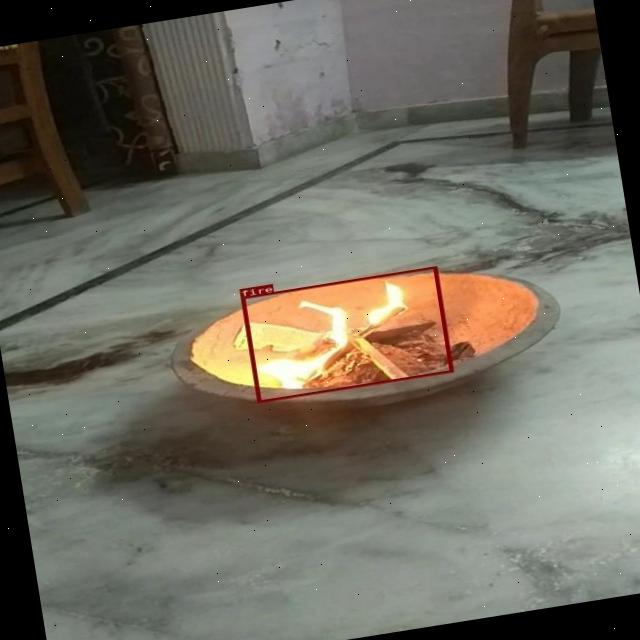fire: (241, 266, 454, 403)
